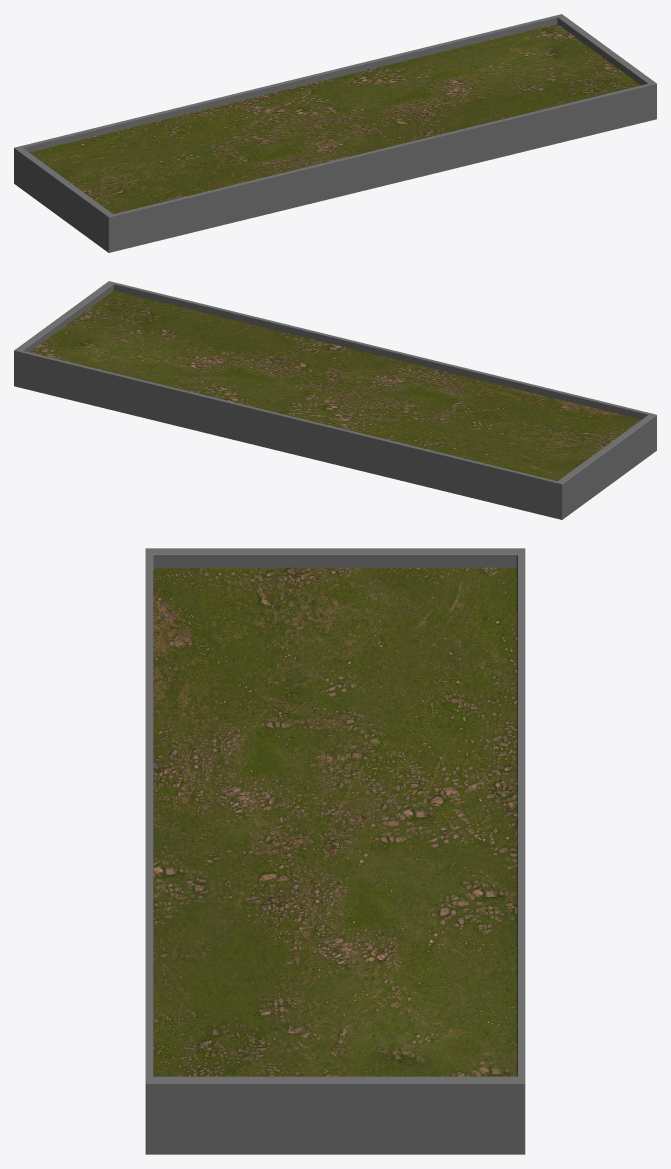
The model's file is Median.fbx.
3 renders of one model, top to bottom at view 1: azimuth 30°, elevation 25°; view 2: azimuth 150°, elevation 25°; view 3: azimuth 270°, elevation 25°, orthographic. The views are drawn at different scales.
Parts seen in each view (by area): view 1: Mediana; view 2: Mediana; view 3: Mediana.
Part boxes in pixels (box(x1,y1,x2,y2)): Mediana: box(14, 14, 656, 252); Mediana: box(14, 281, 656, 519); Mediana: box(145, 548, 525, 1154).
Size of the model in its own units: 1600 by 100 by 480.
